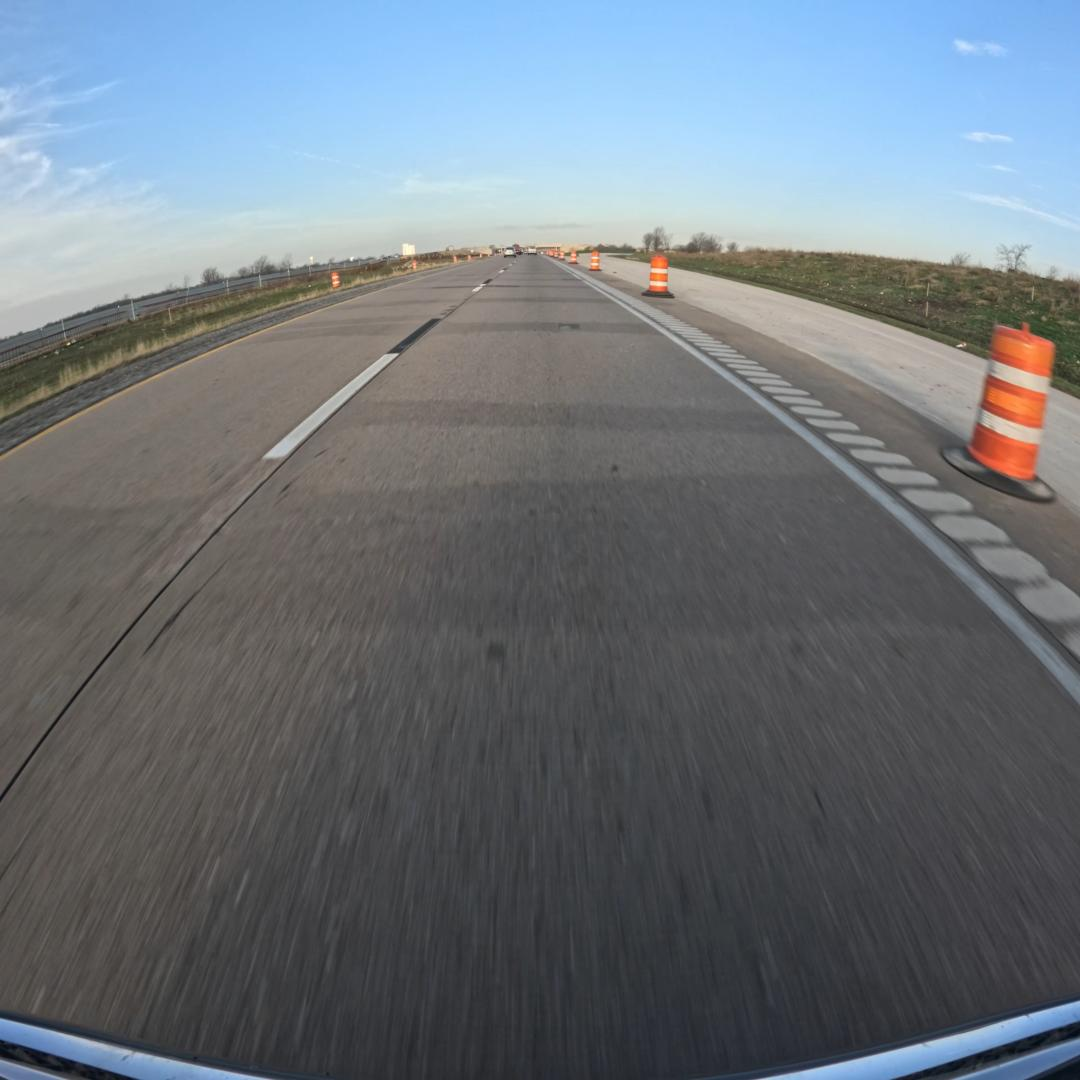lane0: (0, 257, 1080, 1077)
lane1: (0, 257, 510, 795)
